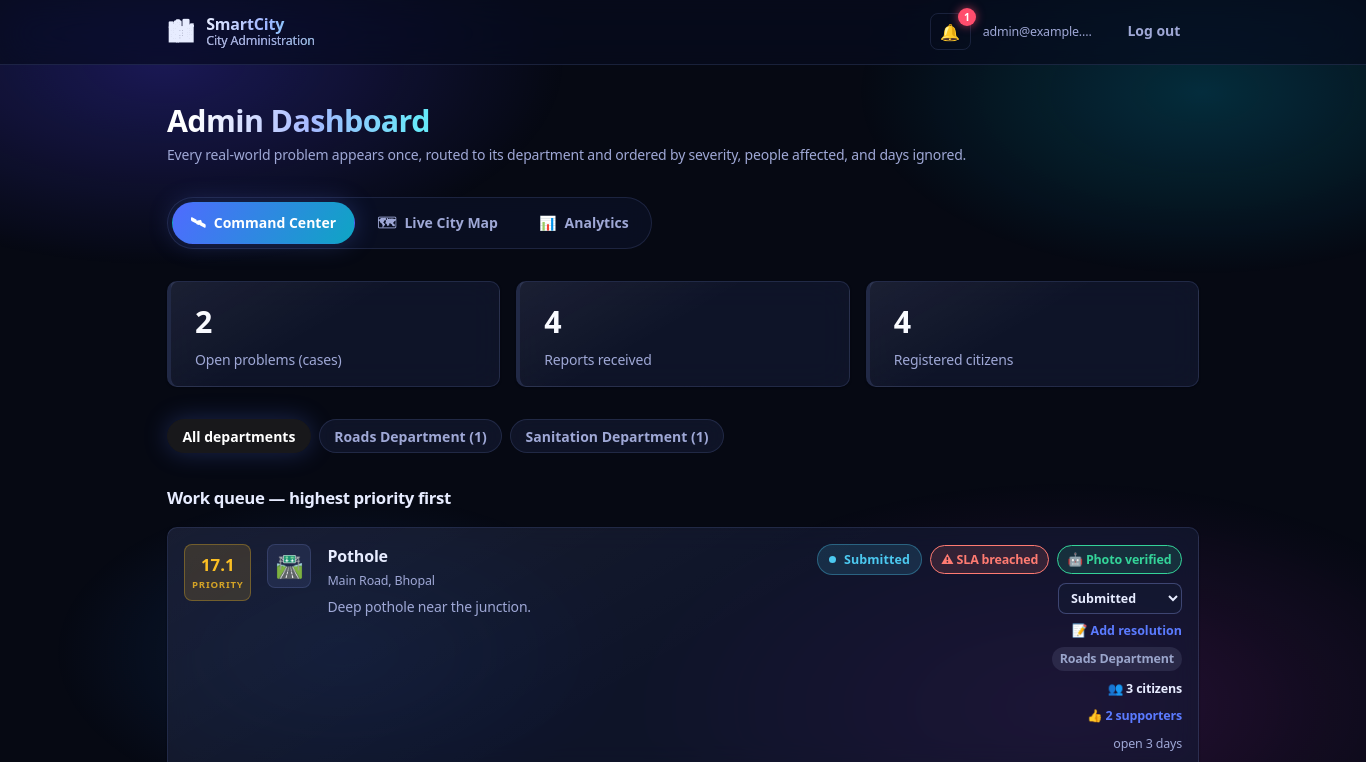
it: AdminDashboard › opens the analytics view with metrics computed from real data
expect the text "Pothole" is shown: met, box 328,545 -> 388,567
Click the button "📊 Analytics": point(584, 223) 520,202 -> 647,244
(page scrolled)
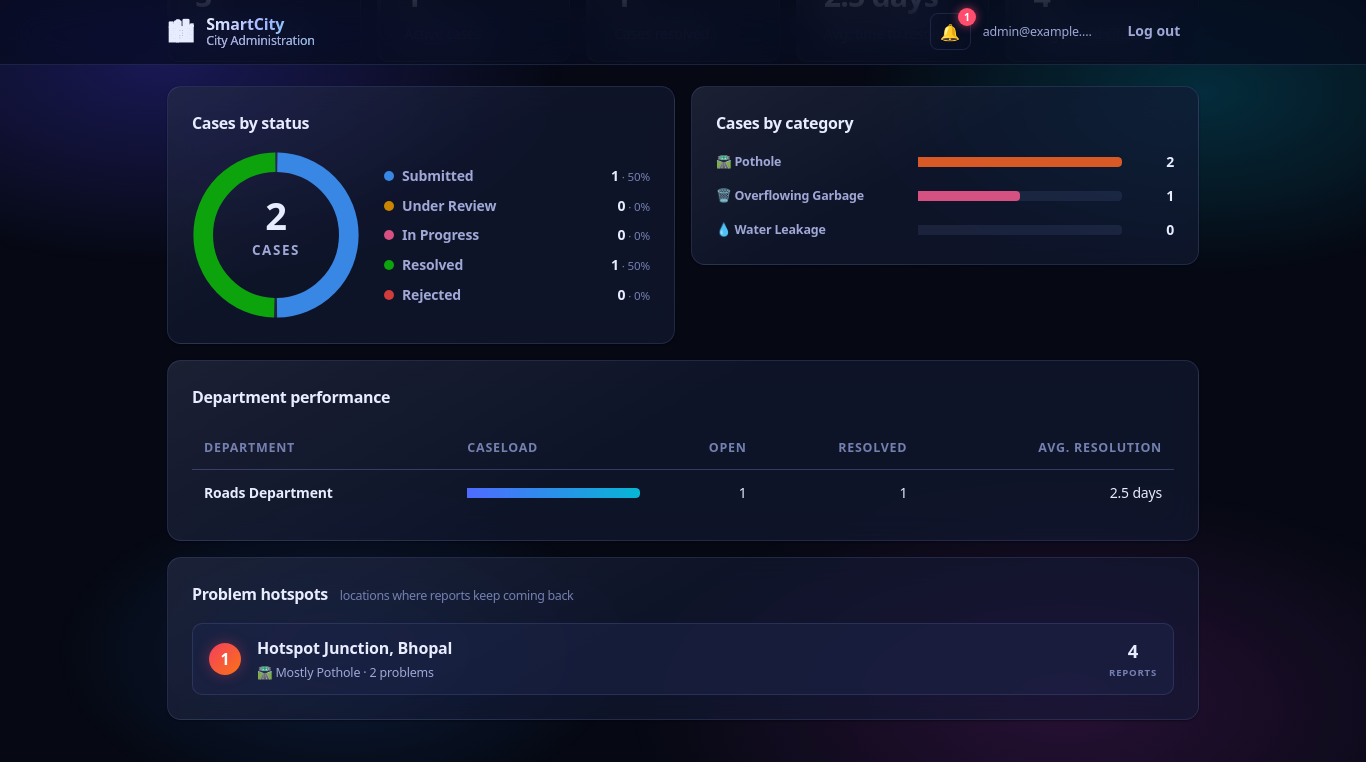
expect the heading "Cases by status" is shown: met, box 192,112 -> 309,134
expect the heading "Cases by category" is shown: met, box 716,112 -> 853,134
expect the heading "Department performance" is shown: met, box 192,386 -> 390,408
